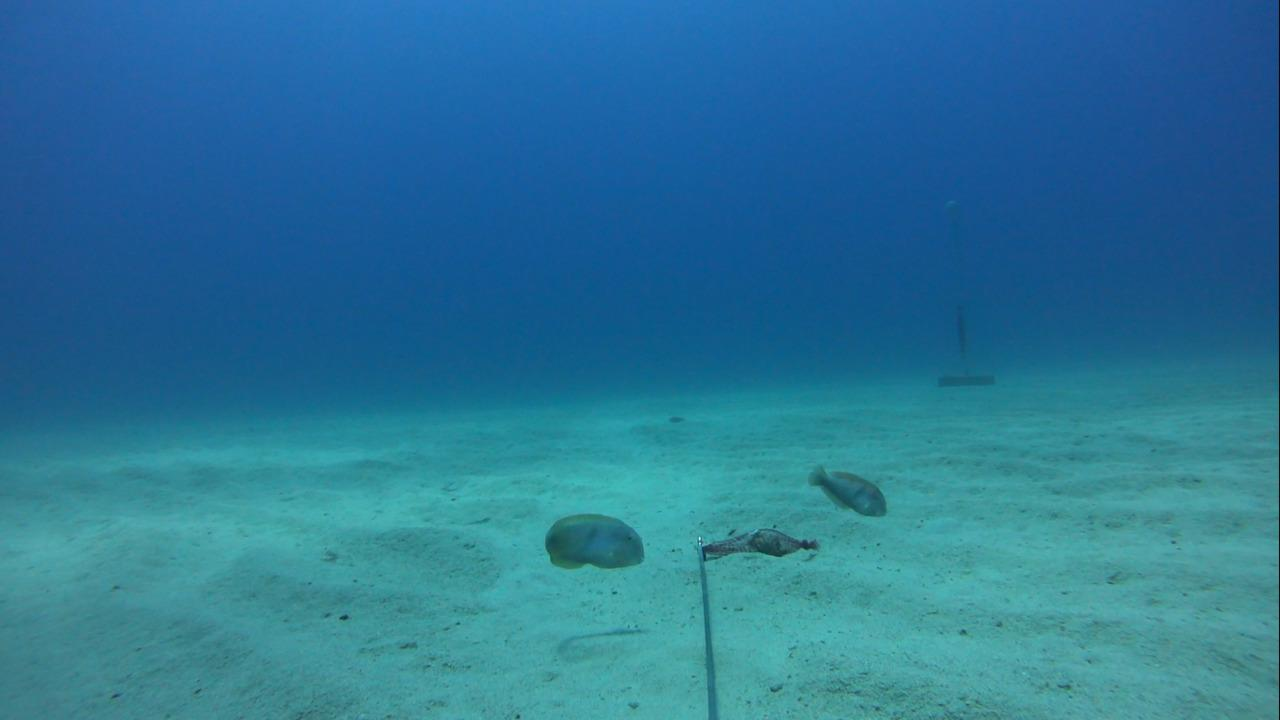raor: (537, 506, 647, 576), (802, 459, 893, 524)
